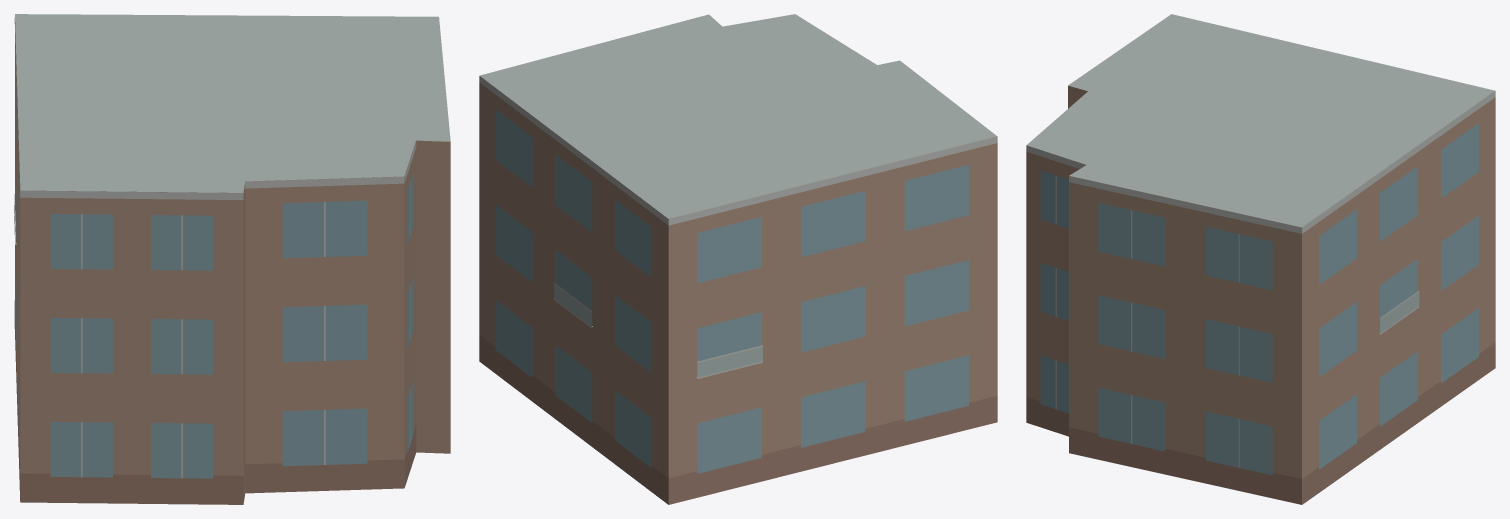
File: survey-upis-32920343.glb
3 renders of one model, left to right at view 1: azimuth 30°, elevation 25°; view 2: azimuth 150°, elevation 25°; view 3: azimuth 270°, elevation 25°, orthographic. The views are drawn at different scales.
Visible parts, largest first — view 1: survey-upis-32920343.tmp; view 2: survey-upis-32920343.tmp; view 3: survey-upis-32920343.tmp.
Boxes of the visible parts, bbox=[...] form: survey-upis-32920343.tmp: bbox=[14, 14, 450, 504]; survey-upis-32920343.tmp: bbox=[479, 14, 997, 504]; survey-upis-32920343.tmp: bbox=[1026, 14, 1495, 504].
Bounding box in the file's own units: 17.51 × 10.6 × 16.26.
